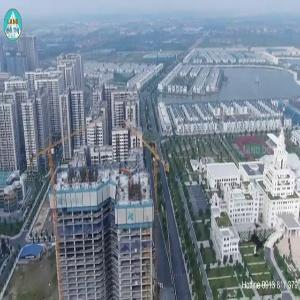drone: (221, 207, 290, 276)
